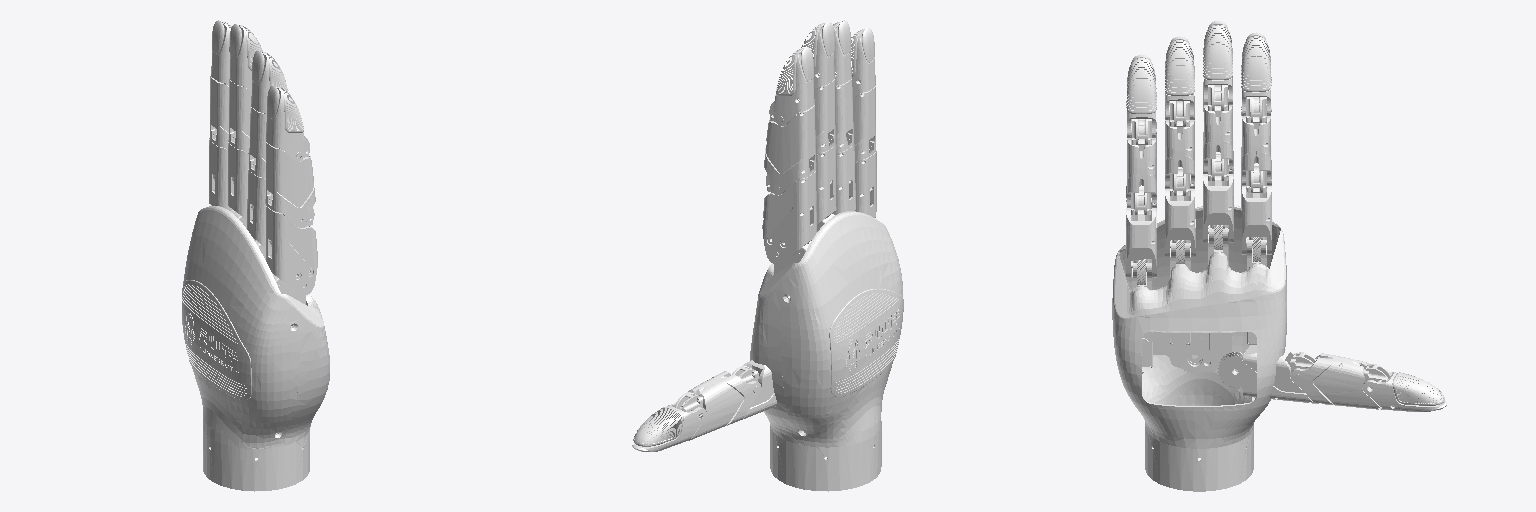
--- What the picture shows (computed from the rendered views, not written in the file) ---
Views: 3 orthographic renders of the robot side by side, from view 1: azimuth 30°, elevation 25°; view 2: azimuth 150°, elevation 25°; view 3: azimuth 270°, elevation 25°.
Robot: linkerhand_t24_1_right — 27 links, 26 joints (21 revolute, 5 fixed); root link base_link; default pose: all joints at 0.
Visible links, largest first — view 1: base_link, little_link1, little_link2, little_link3, middle_link3, middle_link2, ring_link3, middle_link1, index_link2, ring_link1, index_link1, index_link3 (+1 smaller); view 2: base_link, index_link1, index_link2, trumb_link3, index_link3, trumb_link4, little_link2, little_link3, middle_link3, middle_link2, middle_link1, ring_link1 (+4 smaller); view 3: base_link, trumb_link3, trumb_link2, little_link1, middle_link1, index_link1, ring_link1, trumb_link4, index_link2, middle_link2, little_link2, ring_link2 (+4 smaller).
Boxes of the visible links, <box> form: base_link: <box>182,206,329,491</box>; little_link1: <box>266,206,317,295</box>; little_link2: <box>265,137,315,227</box>; little_link3: <box>266,86,304,161</box>; middle_link3: <box>230,24,262,91</box>; middle_link2: <box>228,79,251,152</box>; ring_link3: <box>251,51,287,113</box>; middle_link1: <box>228,142,248,220</box>; index_link2: <box>209,76,228,149</box>; ring_link1: <box>247,169,265,248</box>; index_link1: <box>209,139,230,210</box>; index_link3: <box>211,20,231,85</box>; base_link: <box>750,211,903,491</box>; index_link1: <box>762,171,816,265</box>; index_link2: <box>764,102,815,194</box>; trumb_link3: <box>672,371,760,440</box>; index_link3: <box>774,47,814,125</box>; trumb_link4: <box>632,404,706,451</box>; little_link2: <box>853,86,875,162</box>; little_link3: <box>851,28,875,98</box>; middle_link3: <box>801,22,834,89</box>; middle_link2: <box>814,79,835,154</box>; middle_link1: <box>816,145,836,224</box>; ring_link1: <box>833,144,855,214</box>; base_link: <box>1112,205,1286,491</box>; trumb_link3: <box>1290,353,1391,409</box>; trumb_link2: <box>1217,345,1316,403</box>; little_link1: <box>1126,178,1156,284</box>; middle_link1: <box>1203,152,1233,249</box>; index_link1: <box>1241,163,1271,261</box>; ring_link1: <box>1165,167,1195,263</box>; trumb_link4: <box>1363,372,1447,411</box>; index_link2: <box>1241,97,1271,185</box>; middle_link2: <box>1203,85,1233,173</box>; little_link2: <box>1127,119,1156,207</box>; ring_link2: <box>1165,101,1194,188</box>.
Bounding box of the posed robot: 0.0804 × 0.1982 × 0.2891 m (x, y, z).
Meshes: 27 distinct files referenced, 25 mesh visuals loaded (25 binary STL); not drawn: 2 (reference not matched to a file when rendering).

The robot description file, URDF, robot "linkerhand_t24_1_right":
<?xml version="1.0" encoding="utf-8"?>
<!-- This URDF was automatically created by SolidWorks to URDF Exporter! Originally created by Stephen Brawner ([email redacted]) 
     Commit Version: 1.6.0-1-g15f4949  Build Version: 1.6.7594.29634
     For more information, please see http://wiki.ros.org/sw_urdf_exporter -->
<robot
  name="linkerhand_t24_1_right">
  <link
    name="base_link">
    <inertial>
      <origin
        xyz="0.00258739599199595 0.00890116360143403 0.139419533771663"
        rpy="0 0 0" />
      <mass
        value="0.269152839443886" />
      <inertia
        ixx="0.00177830804966392"
        ixy="-5.93935627663372E-05"
        ixz="2.69666193778981E-05"
        iyy="0.00147653758319417"
        iyz="0.000148619225191075"
        izz="0.000428398038832443" />
    </inertial>
    <visual>
      <origin
        xyz="0 0 0"
        rpy="0 0 0" />
      <geometry>
        <mesh
          filename="meshes/base_link.STL" />
      </geometry>
      <material
        name="">
        <color
          rgba="1 1 1 1" />
      </material>
    </visual>
    <collision>
      <origin
        xyz="0 0 0"
        rpy="0 0 0" />
      <geometry>
        <mesh
          filename="meshes/base_link.STL" />
      </geometry>
    </collision>
  </link>
  <link
    name="trumb_link0">
    <inertial>
      <origin
        xyz="-0.00191014368243104 0.00275969733370915 0.000842631887315579"
        rpy="0 0 0" />
      <mass
        value="0.00466562338059168" />
      <inertia
        ixx="2.18249754664417E-07"
        ixy="5.39712506031415E-09"
        ixz="-2.50095737897963E-08"
        iyy="1.88077142287716E-07"
        iyz="9.69090597953119E-09"
        izz="1.37244707692484E-07" />
    </inertial>
    <visual>
      <origin
        xyz="0 0 0"
        rpy="0 0 0" />
      <geometry>
        <mesh
          filename="meshes/trumb_link0.STL" />
      </geometry>
      <material
        name="">
        <color
          rgba="1 1 1 1" />
      </material>
    </visual>
    <collision>
      <origin
        xyz="0 0 0"
        rpy="0 0 0" />
      <geometry>
        <mesh
          filename="meshes/trumb_link0.STL" />
      </geometry>
    </collision>
  </link>
  <joint
    name="trumb_joint0"
    type="revolute">
    <origin
      xyz="-0.0064336 -0.0026725 0.068052"
      rpy="0.0026857 0 0" />
    <parent
      link="base_link" />
    <child
      link="trumb_link0" />
    <axis
      xyz="1 0 0" />
    <limit
      lower="-0.26"
      upper="0.61"
      effort="100"
      velocity="1" />
  </joint>
  <link
    name="trumb_link1">
    <inertial>
      <origin
        xyz="0.0107972965440593 -0.00780014885359367 -0.0106883405152574"
        rpy="0 0 0" />
      <mass
        value="0.0132849431009556" />
      <inertia
        ixx="5.73555307735334E-07"
        ixy="1.52007301908348E-08"
        ixz="-2.05107194782105E-07"
        iyy="1.24055475959824E-06"
        iyz="3.08915200839824E-08"
        izz="1.12041715669972E-06" />
    </inertial>
    <visual>
      <origin
        xyz="0 0 0"
        rpy="0 0 0" />
      <geometry>
        <mesh
          filename="meshes/trumb_link1.STL" />
      </geometry>
      <material
        name="">
        <color
          rgba="1 1 1 1" />
      </material>
    </visual>
    <collision>
      <origin
        xyz="0 0 0"
        rpy="0 0 0" />
      <geometry>
        <mesh
          filename="meshes/trumb_link1.STL" />
      </geometry>
    </collision>
  </link>
  <joint
    name="trumb_joint1"
    type="revolute">
    <origin
      xyz="0.006 0.00325 0.0036559"
      rpy="0 0 1.3075" />
    <parent
      link="trumb_link0" />
    <child
      link="trumb_link1" />
    <axis
      xyz="0 0 1" />
    <limit
      lower="-1.43"
      upper="0"
      effort="100"
      velocity="1" />
  </joint>
  <link
    name="trumb_link2">
    <inertial>
      <origin
        xyz="-0.0138667483899618 0.00254958129898298 0.0713379364969491"
        rpy="0 0 0" />
      <mass
        value="0.269152839443886" />
      <inertia
        ixx="0.00146793673117189"
        ixy="-2.43557236314711E-05"
        ixz="0.000147718033673625"
        iyy="0.00178773349062417"
        iyz="1.17600361514915E-05"
        izz="0.000427573449894473" />
    </inertial>
    <visual>
      <origin
        xyz="0 0 0"
        rpy="0 0 0" />
      <geometry>
        <mesh
          filename="meshes/trumb_link2.STL" />
      </geometry>
      <material
        name="">
        <color
          rgba="1 1 1 1" />
      </material>
    </visual>
    <collision>
      <origin
        xyz="0 0 0"
        rpy="0 0 0" />
      <geometry>
        <mesh
          filename="meshes/trumb_link2.STL" />
      </geometry>
    </collision>
  </link>
  <joint
    name="trumb_joint2"
    type="revolute">
    <origin
      xyz="0.022883 -0.00325 -0.0036559"
      rpy="0 -0.00011487 0" />
    <parent
      link="trumb_link1" />
    <child
      link="trumb_link2" />
    <axis
      xyz="0 -1 0" />
    <limit
      lower="0"
      upper="0.89"
      effort="100"
      velocity="1" />
  </joint>
  <link
    name="trumb_link3">
    <inertial>
      <origin
        xyz="-0.0531779257749569 -0.0674226477836501 -0.00327423905078019"
        rpy="0 0 0" />
      <mass
        value="0.269152839443886" />
      <inertia
        ixx="0.0014706711144407"
        ixy="-0.000137788652963271"
        ixz="-2.38819654247802E-05"
        iyy="0.000424785694139104"
        iyz="-8.43109267516766E-06"
        izz="0.00178778686311073" />
    </inertial>
    <visual>
      <origin
        xyz="0 0 0"
        rpy="0 0 0" />
      <geometry>
        <mesh
          filename="meshes/trumb_link3.STL" />
      </geometry>
      <material
        name="">
        <color
          rgba="1 1 1 1" />
      </material>
    </visual>
    <collision>
      <origin
        xyz="0 0 0"
        rpy="0 0 0" />
      <geometry>
        <mesh
          filename="meshes/trumb_link3.STL" />
      </geometry>
    </collision>
  </link>
  <joint
    name="trumb_joint3"
    type="revolute">
    <origin
      xyz="0.039954 0.006 0.0044366"
      rpy="-1.5682 -0.0095791 0" />
    <parent
      link="trumb_link2" />
    <child
      link="trumb_link3" />
    <axis
      xyz="0 0.0026132 1" />
    <limit
      lower="-1.57"
      upper="0"
      effort="100"
      velocity="1" />
  </joint>
  <link
    name="trumb_link4">
    <inertial>
      <origin
        xyz="-0.0959366778925846 -0.00345041867474483 0.0721354631429822"
        rpy="0 0 0" />
      <mass
        value="0.269152839443886" />
      <inertia
        ixx="0.00147586931101162"
        ixy="-2.39914328826128E-05"
        ixz="0.00011621070027556"
        iyy="0.00178773349062445"
        iyz="1.24864274973324E-05"
        izz="0.000419640870054461" />
    </inertial>
    <visual>
      <origin
        xyz="0 0 0"
        rpy="0 0 0" />
      <geometry>
        <mesh
          filename="meshes/trumb_link4.STL" />
      </geometry>
      <material
        name="">
        <color
          rgba="1 1 1 1" />
      </material>
    </visual>
    <collision>
      <origin
        xyz="0 0 0"
        rpy="0 0 0" />
      <geometry>
        <mesh
          filename="meshes/trumb_link4.STL" />
      </geometry>
    </collision>
  </link>
  <joint
    name="trumb_joint4"
    type="revolute">
    <origin
      xyz="0.044215 0.002743 0"
      rpy="1.5682 -5.3483E-05 -0.020468" />
    <parent
      link="trumb_link3" />
    <child
      link="trumb_link4" />
    <axis
      xyz="0 1 0" />
    <limit
      lower="-1.57"
      upper="0"
      effort="100"
      velocity="1" />
  </joint>
  <link
    name="trumb_link5">
    <inertial>
      <origin
        xyz="-0.000345767318641471 2.09452099747542E-07 -7.36364440549614E-05"
        rpy="0 0 0" />
      <mass
        value="1.25E-07" />
      <inertia
        ixx="5.20833333333333E-15"
        ixy="-9.17050802319426E-30"
        ixz="2.03216424011964E-29"
        iyy="5.20833333333329E-15"
        iyz="-2.42821247388343E-30"
        izz="5.20833333333336E-15" />
    </inertial>
    <visual>
      <origin
        xyz="0 0 0"
        rpy="0 0 0" />
      <geometry>
        <mesh
          filename="meshes/trumb_link5.STL" />
      </geometry>
      <material
        name="">
        <color
          rgba="1 1 1 1" />
      </material>
    </visual>
    <collision>
      <origin
        xyz="0 0 0"
        rpy="0 0 0" />
      <geometry>
        <mesh
          filename="meshes/trumb_link5.STL" />
      </geometry>
    </collision>
  </link>
  <joint
    name="trumb_joint5"
    type="fixed">
    <origin
      xyz="0.044396 -0.0059997 -0.010129"
      rpy="0 0 0" />
    <parent
      link="trumb_link4" />
    <child
      link="trumb_link5" />
    <axis
      xyz="0 0 0" />
  </joint>
  <link
    name="index_link0">
    <inertial>
      <origin
        xyz="-0.0116738400150615 -0.0249846423618668 0.00541127703895714"
        rpy="0 0 0" />
      <mass
        value="0.269152839443886" />
      <inertia
        ixx="0.0017783079720147"
        ixy="-5.93211342635092E-05"
        ixz="2.71279767148864E-05"
        iyy="0.00147732829997939"
        iyz="0.000145802064392195"
        izz="0.000427607399696438" />
    </inertial>
    <visual>
      <origin
        xyz="0 0 0"
        rpy="0 0 0" />
      <geometry>
        <mesh
          filename="meshes/index_link0.STL" />
      </geometry>
      <material
        name="">
        <color
          rgba="1 1 1 1" />
      </material>
    </visual>
    <collision>
      <origin
        xyz="0 0 0"
        rpy="0 0 0" />
      <geometry>
        <mesh
          filename="meshes/index_link0.STL" />
      </geometry>
    </collision>
  </link>
  <joint
    name="index_joint0"
    type="revolute">
    <origin
      xyz="0.014261 0.0339 0.13408"
      rpy="0.0026857 0 0" />
    <parent
      link="base_link" />
    <child
      link="index_link0" />
    <axis
      xyz="1 0 0" />
    <limit
      lower="-0.18"
      upper="0"
      effort="100"
      velocity="1" />
  </joint>
  <link
    name="index_link1">
    <inertial>
      <origin
        xyz="-0.00540393374272892 -0.0274846423619768 -0.0117160692076493"
        rpy="0 0 0" />
      <mass
        value="0.269152839443886" />
      <inertia
        ixx="0.00177766272537291"
        ixy="-6.07179790083106E-05"
        ixz="4.00879755757671E-05"
        iyy="0.00147732829997939"
        iyz="0.000145225913584595"
        izz="0.000428252646338224" />
    </inertial>
    <visual>
      <origin
        xyz="0 0 0"
        rpy="0 0 0" />
      <geometry>
        <mesh
          filename="meshes/index_link1.STL" />
      </geometry>
      <material
        name="">
        <color
          rgba="1 1 1 1" />
      </material>
    </visual>
    <collision>
      <origin
        xyz="0 0 0"
        rpy="0 0 0" />
      <geometry>
        <mesh
          filename="meshes/index_link1.STL" />
      </geometry>
    </collision>
  </link>
  <joint
    name="index_joint1"
    type="revolute">
    <origin
      xyz="-0.0061577 0.0025 0.017075"
      rpy="0 0.0095993 0" />
    <parent
      link="index_link0" />
    <child
      link="index_link1" />
    <axis
      xyz="0 1 0" />
    <limit
      lower="0"
      upper="1.57"
      effort="100"
      velocity="1" />
  </joint>
  <link
    name="index_link2">
    <inertial>
      <origin
        xyz="-0.00484277615558324 -0.0309846423660203 -0.0537126175656924"
        rpy="0 0 0" />
      <mass
        value="0.269152839443886" />
      <inertia
        ixx="0.00177766272537291"
        ixy="-6.07179790083098E-05"
        ixz="4.00879755757657E-05"
        iyy="0.0014773282999794"
        iyz="0.000145225913584584"
        izz="0.000428252646338221" />
    </inertial>
    <visual>
      <origin
        xyz="0 0 0"
        rpy="0 0 0" />
      <geometry>
        <mesh
          filename="meshes/index_link2.STL" />
      </geometry>
      <material
        name="">
        <color
          rgba="1 1 1 1" />
      </material>
    </visual>
    <collision>
      <origin
        xyz="0 0 0"
        rpy="0 0 0" />
      <geometry>
        <mesh
          filename="meshes/index_link2.STL" />
      </geometry>
    </collision>
  </link>
  <joint
    name="index_joint2"
    type="revolute">
    <origin
      xyz="-0.00056116 0.0035 0.041997"
      rpy="0 0 0" />
    <parent
      link="index_link1" />
    <child
      link="index_link2" />
    <axis
      xyz="0 1 0" />
    <limit
      lower="0"
      upper="1.57"
      effort="100"
      velocity="1" />
  </joint>
  <link
    name="index_link3">
    <inertial>
      <origin
        xyz="0.000731836437005504 -0.0309846423707089 -0.0979473866863188"
        rpy="0 0 0" />
      <mass
        value="0.269152839443886" />
      <inertia
        ixx="0.00177421861342153"
        ixy="-6.48905123172789E-05"
        ixz="7.90107793802022E-05"
        iyy="0.00147732829997989"
        iyz="0.000143410112484766"
        izz="0.000431696758289107" />
    </inertial>
    <visual>
      <origin
        xyz="0 0 0"
        rpy="0 0 0" />
      <geometry>
        <mesh
          filename="meshes/index_link3.STL" />
      </geometry>
      <material
        name="">
        <color
          rgba="1 1 1 1" />
      </material>
    </visual>
    <collision>
      <origin
        xyz="0 0 0"
        rpy="0 0 0" />
      <geometry>
        <mesh
          filename="meshes/index_link3.STL" />
      </geometry>
    </collision>
  </link>
  <joint
    name="index_joint3"
    type="revolute">
    <origin
      xyz="-0.002743 0 0.044215"
      rpy="0 0.02891 0" />
    <parent
      link="index_link2" />
    <child
      link="index_link3" />
    <axis
      xyz="0 1 0" />
    <limit
      lower="0"
      upper="1.57"
      effort="100"
      velocity="1" />
  </joint>
  <link
    name="index_link4">
    <inertial>
      <origin
        xyz="-0.000349434973883823 -4.11141635459078E-07 5.35951185556272E-05"
        rpy="0 0 0" />
      <mass
        value="1.24999999999997E-07" />
      <inertia
        ixx="5.20833333333303E-15"
        ixy="1.36384265347506E-29"
        ixz="-3.14558285956878E-29"
        iyy="5.20833333333322E-15"
        iyz="-3.40964343130674E-29"
        izz="5.20833333333309E-15" />
    </inertial>
    <visual>
      <origin
        xyz="0 0 0"
        rpy="0 0 0" />
      <geometry>
        <mesh
          filename="meshes/index_link4.STL" />
      </geometry>
      <material
        name="">
        <color
          rgba="1 1 1 1" />
      </material>
    </visual>
    <collision>
      <origin
        xyz="0 0 0"
        rpy="0 0 0" />
      <geometry>
        <mesh
          filename="meshes/index_link4.STL" />
      </geometry>
    </collision>
  </link>
  <joint
    name="index_joint4"
    type="fixed">
    <origin
      xyz="-0.012677 -0.0059997 0.043737"
      rpy="0 0 0" />
    <parent
      link="index_link3" />
    <child
      link="index_link4" />
    <axis
      xyz="0 0 0" />
  </joint>
  <link
    name="middle_link0">
    <inertial>
      <origin
        xyz="-0.0109304819869269 -0.00221632614720707 -0.00220331857411777"
        rpy="0 0 0" />
      <mass
        value="0.269152839443886" />
      <inertia
        ixx="0.0017783079720147"
        ixy="-5.93211342635094E-05"
        ixz="2.71279767148867E-05"
        iyy="0.00147732829997939"
        iyz="0.000145802064392195"
        izz="0.000427607399696438" />
    </inertial>
    <visual>
      <origin
        xyz="0 0 0"
        rpy="0 0 0" />
      <geometry>
        <mesh
          filename="meshes/middle_link0.STL" />
      </geometry>
      <material
        name="">
        <color
          rgba="1 1 1 1" />
      </material>
    </visual>
    <collision>
      <origin
        xyz="0 0 0"
        rpy="0 0 0" />
      <geometry>
        <mesh
          filename="meshes/middle_link0.STL" />
      </geometry>
    </collision>
  </link>
  <joint
    name="middle_joint0"
    type="revolute">
    <origin
      xyz="0.013518 0.011112 0.14163"
      rpy="0.0026857 0 0" />
    <parent
      link="base_link" />
    <child
      link="middle_link0" />
    <axis
      xyz="1 0 0" />
    <limit
      lower="0"
      upper="0"
      effort="100"
      velocity="1" />
  </joint>
  <link
    name="middle_link1">
    <inertial>
      <origin
        xyz="-0.00533194001687153 -0.00488464236319619 -0.0192157236623227"
        rpy="0 0 0" />
      <mass
        value="0.269152839443886" />
      <inertia
        ixx="0.00177766272537291"
        ixy="-6.07179790074989E-05"
        ixz="4.00879755769901E-05"
        iyy="0.00147732829998527"
        iyz="0.00014522591356337"
        izz="0.000428252646332347" />
    </inertial>
    <visual>
      <origin
        xyz="0 0 0"
        rpy="0 0 0" />
      <geometry>
        <mesh
          filename="meshes/middle_link1.STL" />
      </geometry>
      <material
        name="">
        <color
          rgba="1 1 1 1" />
      </material>
    </visual>
    <collision>
      <origin
        xyz="0 0 0"
        rpy="0 0 0" />
      <geometry>
        <mesh
          filename="meshes/middle_link1.STL" />
      </geometry>
    </collision>
  </link>
  <joint
    name="middle_joint1"
    type="revolute">
    <origin
      xyz="-0.0054143 0.0026683 0.01696"
      rpy="0 0.0095993 0" />
    <parent
      link="middle_link0" />
    <child
      link="middle_link1" />
    <axis
      xyz="0 1 0" />
    <limit
      lower="0"
      upper="1.57"
      effort="100"
      velocity="1" />
  </joint>
  <link
    name="middle_link2">
    <inertial>
      <origin
        xyz="-0.00477201854191357 -0.00838464237202477 -0.0612121756676154"
        rpy="0 0 0" />
      <mass
        value="0.269152839443886" />
      <inertia
        ixx="0.00177766434388306"
        ixy="-6.07150463278508E-05"
        ixz="4.00607257482394E-05"
        iyy="0.00147732829998059"
        iyz="0.000145227139685569"
        izz="0.000428251027826884" />
    </inertial>
    <visual>
      <origin
        xyz="0 0 0"
        rpy="0 0 0" />
      <geometry>
        <mesh
          filename="meshes/middle_link2.STL" />
      </geometry>
      <material
        name="">
        <color
          rgba="1 1 1 1" />
      </material>
    </visual>
    <collision>
      <origin
        xyz="0 0 0"
        rpy="0 0 0" />
      <geometry>
        <mesh
          filename="meshes/middle_link2.STL" />
      </geometry>
    </collision>
  </link>
  <joint
    name="middle_joint2"
    type="revolute">
    <origin
      xyz="-0.00056116 0.0035 0.041997"
      rpy="0 -2.0194E-05 0" />
    <parent
      link="middle_link1" />
    <child
      link="middle_link2" />
    <axis
      xyz="0 1 0" />
    <limit
      lower="0"
      upper="1.57"
      effort="100"
      velocity="1" />
  </joint>
  <link
    name="middle_link3">
    <inertial>
      <origin
        xyz="-0.00202898234042185 -0.00838464237677725 -0.105427170323188"
        rpy="0 0 0" />
      <mass
        value="0.269152839443886" />
      <inertia
        ixx="0.00177766434388304"
        ixy="-6.07150463278799E-05"
        ixz="4.00607257485019E-05"
        iyy="0.00147732829998058"
        iyz="0.000145227139685572"
        izz="0.000428251027826904" />
    </inertial>
    <visual>
      <origin
        xyz="0 0 0"
        rpy="0 0 0" />
      <geometry>
        <mesh
          filename="meshes/middle_link3.STL" />
      </geometry>
      <material
        name="">
        <color
          rgba="1 1 1 1" />
      </material>
    </visual>
    <collision>
      <origin
        xyz="0 0 0"
        rpy="0 0 0" />
      <geometry>
        <mesh
          filename="meshes/middle_link3.STL" />
      </geometry>
    </collision>
  </link>
  <joint
    name="middle_joint3"
    type="revolute">
    <origin
      xyz="-0.002743 0 0.044215"
      rpy="0 0 0" />
    <parent
      link="middle_link2" />
    <child
      link="middle_link3" />
    <axis
      xyz="0 1 0" />
    <limit
      lower="0"
      upper="1.57"
      effort="100"
      velocity="1" />
  </joint>
  <link
    name="middle_link4">
    <inertial>
      <origin
        xyz="-0.000349704869523938 -7.4578572797912E-07 5.33973445394076E-05"
        rpy="0 0 0" />
      <mass
        value="1.25E-07" />
      <inertia
        ixx="5.20833333333332E-15"
        ixy="3.87023168072014E-29"
        ixz="5.53743377610218E-30"
        iyy="5.20833333333342E-15"
        iyz="1.21268865032447E-29"
        izz="5.20833333333335E-15" />
    </inertial>
    <visual>
      <origin
        xyz="0 0 0"
        rpy="0 0 0" />
      <geometry>
        <mesh
          filename="meshes/middle_link4.STL" />
      </geometry>
      <material
        name="">
        <color
          rgba="1 1 1 1" />
      </material>
    </visual>
    <collision>
      <origin
        xyz="0 0 0"
        rpy="0 0 0" />
      <geometry>
        <mesh
          filename="meshes/middle_link4.STL" />
      </geometry>
    </collision>
  </link>
  <joint
    name="middle_joint4"
    type="fixed">
    <origin
      xyz="-0.0126773959122548 -0.00599972219724709 0.0437367152831721"
      rpy="0 0 0" />
    <parent
      link="middle_link3" />
    <child
      link="middle_link4" />
    <axis
      xyz="0 0 0" />
  </joint>
  <link
    name="ring_link0">
    <inertial>
      <origin
        xyz="-0.0112077785389183 0.0202152553078928 0.0071599509520778"
        rpy="0 0 0" />
      <mass
        value="0.269152839443886" />
      <inertia
        ixx="0.00177830707271652"
        ixy="-5.93234165997825E-05"
        ixz="2.71290797017276E-05"
        iyy="0.00147732918866887"
        iyz="0.00014580189695368"
        izz="0.000427607410305141" />
    </inertial>
    <visual>
      <origin
        xyz="0 0 0"
        rpy="0 0 0" />
      <geometry>
        <mesh
          filename="meshes/ring_link0.STL" />
      </geometry>
      <material
        name="">
        <color
          rgba="1 1 1 1" />
      </material>
    </visual>
    <collision>
      <origin
        xyz="0 0 0"
        rpy="0 0 0" />
      <geometry>
        <mesh
          filename="meshes/ring_link0.STL" />
      </geometry>
    </collision>
  </link>
  <joint
    name="ring_joint0"
    type="revolute">
    <origin
      xyz="0.013795 -0.011295 0.13221"
      rpy="0.0026856 0 0" />
    <parent
      link="base_link" />
    <child
      link="ring_link0" />
    <axis
      xyz="1 0 0" />
    <limit
      lower="0"
      upper="0.18"
      effort="100"
      velocity="1" />
  </joint>
  <link
    name="ring_link1">
    <inertial>
      <origin
        xyz="-0.00501043638848299 0.0177152553079935 -0.0100619791966741"
        rpy="0 0 0" />
      <mass
        value="0.269152839443886" />
      <inertia
        ixx="0.00177566145718129"
        ixy="-6.34577267157826E-05"
        ixz="6.55928326435769E-05"
        iyy="0.00147732918866887"
        iyz="0.000144050608580546"
        izz="0.000430253025840368" />
    </inertial>
    <visual>
      <origin
        xyz="0 0 0"
        rpy="0 0 0" />
      <geometry>
        <mesh
          filename="meshes/ring_link1.STL" />
      </geometry>
      <material
        name="">
        <color
          rgba="1 1 1 1" />
      </material>
    </visual>
    <collision>
      <origin
        xyz="0 0 0"
        rpy="0 0 0" />
      <geometry>
        <mesh
          filename="meshes/ring_link1.STL" />
      </geometry>
    </collision>
  </link>
  <joint
    name="ring_joint1"
    type="revolute">
    <origin
      xyz="-0.0059124 0.0025 0.017075"
      rpy="0 0.028525 0" />
    <parent
      link="ring_link0" />
    <child
      link="ring_link1" />
    <axis
      xyz="0 1 0" />
    <limit
      lower="0"
      upper="1.57"
      effort="100"
      velocity="1" />
  </joint>
  <link
    name="ring_link2">
    <inertial>
      <origin
        xyz="-0.00445033006575546 0.0142152552987778 -0.0520584376961807"
        rpy="0 0 0" />
      <mass
        value="0.269152839443886" />
      <inertia
        ixx="0.00177566410577584"
        ixy="-6.34548177690244E-05"
        ixz="6.55656636040719E-05"
        iyy="0.00147732918867022"
        iyz="0.000144051890007602"
        izz="0.00043025037724447" />
    </inertial>
    <visual>
      <origin
        xyz="0 0 0"
        rpy="0 0 0" />
      <geometry>
        <mesh
          filename="meshes/ring_link2.STL" />
      </geometry>
      <material
        name="">
        <color
          rgba="1 1 1 1" />
      </material>
    </visual>
    <collision>
      <origin
        xyz="0 0 0"
        rpy="0 0 0" />
      <geometry>
        <mesh
          filename="meshes/ring_link2.STL" />
      </geometry>
    </collision>
  </link>
  <joint
    name="ring_joint2"
    type="revolute">
    <origin
      xyz="-0.00056116 0.0035 0.041997"
      rpy="0 -2.0194E-05 0" />
    <parent
      link="ring_link1" />
    <child
      link="ring_link2" />
    <axis
      xyz="0 1 0" />
    <limit
      lower="0"
      upper="1.57"
      effort="100"
      velocity="1" />
  </joint>
  <link
    name="ring_link3">
    <inertial>
      <origin
        xyz="-0.000744056113606869 0.0142152552972555 -0.0962856947299341"
        rpy="0 0 0" />
      <mass
        value="0.269152839443886" />
      <inertia
        ixx="0.0017742176306046"
        ixy="-6.48927865170148E-05"
        ixz="7.9011844091808E-05"
        iyy="0.0014773291886702"
        iyz="0.000143409857300473"
        izz="0.000431696852415732" />
    </inertial>
    <visual>
      <origin
        xyz="0 0 0"
        rpy="0 0 0" />
      <geometry>
        <mesh
          filename="meshes/ring_link3.STL" />
      </geometry>
      <material
        name="">
        <color
          rgba="1 1 1 1" />
      </material>
    </visual>
    <collision>
      <origin
        xyz="0 0 0"
        rpy="0 0 0" />
      <geometry>
        <mesh
          filename="meshes/ring_link3.STL" />
      </geometry>
    </collision>
  </link>
  <joint
    name="ring_joint3"
    type="revolute">
    <origin
      xyz="-0.002743 0 0.044215"
      rpy="0 0.010005 0" />
    <parent
      link="ring_link2" />
    <child
      link="ring_link3" />
    <axis
      xyz="0 1 0" />
    <limit
      lower="0"
      upper="1.57"
      effort="100"
      velocity="1" />
  </joint>
  <link
    name="ring_link4">
    <inertial>
      <origin
        xyz="-0.000349704869524039 -7.45785706329771E-07 5.33973445393521E-05"
        rpy="0 0 0" />
      <mass
        value="1.24999999999997E-07" />
      <inertia
        ixx="5.20833333333312E-15"
        ixy="-1.56062827940593E-29"
        ixz="6.55370848915644E-29"
        iyy="5.20833333333329E-15"
        iyz="-5.78853771655365E-29"
        izz="5.20833333333316E-15" />
    </inertial>
    <visual>
      <origin
        xyz="0 0 0"
        rpy="0 0 0" />
      <geometry>
        <mesh
          filename="meshes/ring_link4.STL" />
      </geometry>
      <material
        name="">
        <color
          rgba="1 1 1 1" />
      </material>
    </visual>
    <collision>
      <origin
        xyz="0 0 0"
        rpy="0 0 0" />
      <geometry>
        <mesh
          filename="meshes/ring_link4.STL" />
      </geometry>
    </collision>
  </link>
  <joint
    name="ring_joint4"
    type="fixed">
    <origin
      xyz="-0.0126773959122548 -0.0059997221972472 0.0437367152831721"
      rpy="0 0 0" />
    <parent
      link="ring_link3" />
    <child
      link="ring_link4" />
    <axis
      xyz="0 0 0" />
  </joint>
  <link
    name="little_link0">
    <inertial>
      <origin
        xyz="-0.0107436441658412 0.0428153673335656 0.0202102525407014"
        rpy="0 0 0" />
      <mass
        value="0.269152839443886" />
      <inertia
        ixx="0.00177870430091372"
        ixy="-5.79188233097981E-05"
        ixz="1.41579791394582E-05"
        iyy="0.00147732829997939"
        iyz="0.00014636478011374"
        izz="0.000427211070797417" />
    </inertial>
    <visual>
      <origin
        xyz="0 0 0"
        rpy="0 0 0" />
      <geometry>
        <mesh
          filename="meshes/little_link0.STL" />
      </geometry>
      <material
        name="">
        <color
          rgba="1 1 1 1" />
      </material>
    </visual>
    <collision>
      <origin
        xyz="0 0 0"
        rpy="0 0 0" />
      <geometry>
        <mesh
          filename="meshes/little_link0.STL" />
      </geometry>
    </collision>
  </link>
  <joint
    name="little_joint0"
    type="revolute">
    <origin
      xyz="0.013525 -0.03386 0.1192"
      rpy="0.0026858 -0.0095978 -2.5781E-05" />
    <parent
      link="base_link" />
    <child
      link="little_link0" />
    <axis
      xyz="1 0 0" />
    <limit
      lower="0"
      upper="0.18"
      effort="100"
      velocity="1" />
  </joint>
  <link
    name="little_link1">
    <inertial>
      <origin
        xyz="-0.00535748950691302 0.0407415104772609 0.00325808418821283"
        rpy="0 0 0" />
      <mass
        value="0.269152839443886" />
      <inertia
        ixx="0.00177830797201457"
        ixy="-5.93211342638309E-05"
        ixz="2.71279767150518E-05"
        iyy="0.00147732829997952"
        iyz="0.000145802064392169"
        izz="0.00042760739969644" />
    </inertial>
    <visual>
      <origin
        xyz="0 0 0"
        rpy="0 0 0" />
      <geometry>
        <mesh
          filename="meshes/little_link1.STL" />
      </geometry>
      <material
        name="">
        <color
          rgba="1 1 1 1" />
      </material>
    </visual>
    <collision>
      <origin
        xyz="0 0 0"
        rpy="0 0 0" />
      <geometry>
        <mesh
          filename="meshes/little_link1.STL" />
      </geometry>
    </collision>
  </link>
  <joint
    name="little_joint1"
    type="revolute">
    <origin
      xyz="-0.0054177 0.0020739 0.016901"
      rpy="0 0.0095993 0" />
    <parent
      link="little_link0" />
    <child
      link="little_link1" />
    <axis
      xyz="0 1 0" />
    <limit
      lower="0"
      upper="1.57"
      effort="100"
      velocity="1" />
  </joint>
  <link
    name="little_link2">
    <inertial>
      <origin
        xyz="-0.00478993701934439 0.0368153673294238 -0.0389124529640016"
        rpy="0 0 0" />
      <mass
        value="0.269152839443886" />
      <inertia
        ixx="0.00177830797201457"
        ixy="-5.93211342638289E-05"
        ixz="2.71279767150392E-05"
        iyy="0.00147732829997952"
        iyz="0.000145802064392158"
        izz="0.000427607399696436" />
    </inertial>
    <visual>
      <origin
        xyz="0 0 0"
        rpy="0 0 0" />
      <geometry>
        <mesh
          filename="meshes/little_link2.STL" />
      </geometry>
      <material
        name="">
        <color
          rgba="1 1 1 1" />
      </material>
    </visual>
    <collision>
      <origin
        xyz="0 0 0"
        rpy="0 0 0" />
      <geometry>
        <mesh
          filename="meshes/little_link2.STL" />
      </geometry>
    </collision>
  </link>
  <joint
    name="little_joint2"
    type="revolute">
    <origin
      xyz="-0.00056755 0.0039261 0.042171"
      rpy="0 0 0" />
    <parent
      link="little_link1" />
    <child
      link="little_link2" />
    <axis
      xyz="0 1 0" />
    <limit
      lower="0"
      upper="1.57"
      effort="100"
      velocity="1" />
  </joint>
  <link
    name="little_link3">
    <inertial>
      <origin
        xyz="0.000784355295522267 0.0382613536337701 -0.0825192173202409"
        rpy="0 0 0" />
      <mass
        value="0.269152839443886" />
      <inertia
        ixx="0.00177561171305537"
        ixy="-6.46550062862099E-05"
        ixz="6.49912386916088E-05"
        iyy="0.00147198294155489"
        iyz="0.000162208979298413"
        izz="0.000435649017080279" />
    </inertial>
    <visual>
      <origin
        xyz="0 0 0"
        rpy="0 0 0" />
      <geometry>
        <mesh
          filename="meshes/little_link3.STL" />
      </geometry>
      <material
        name="">
        <color
          rgba="1 1 1 1" />
      </material>
    </visual>
    <collision>
      <origin
        xyz="0 0 0"
        rpy="0 0 0" />
      <geometry>
        <mesh
          filename="meshes/little_link3.STL" />
      </geometry>
    </collision>
  </link>
  <joint
    name="little_joint3"
    type="revolute">
    <origin
      xyz="-0.0031697 0 0.04425"
      rpy="-0.017453 0.02891 0" />
    <parent
      link="little_link2" />
    <child
      link="little_link3" />
    <axis
      xyz="0 0.99985 0.017452" />
    <limit
      lower="0"
      upper="1.57"
      effort="100"
      velocity="1" />
  </joint>
  <link
    name="little_link4">
    <inertial>
      <origin
        xyz="-0.000349704869519324 -1.67759814370672E-06 5.33761957042661E-05"
        rpy="0 0 0" />
      <mass
        value="1.24999999999999E-07" />
      <inertia
        ixx="5.20833333333328E-15"
        ixy="-7.32373379952134E-30"
        ixz="-6.97648863054832E-30"
        iyy="5.20833333333331E-15"
        iyz="6.25865241055767E-29"
        izz="5.20833333333331E-15" />
    </inertial>
    <visual>
      <origin
        xyz="0 0 0"
        rpy="0 0 0" />
      <geometry>
        <mesh
          filename="meshes/little_link4.STL" />
      </geometry>
      <material
        name="">
        <color
          rgba="1 1 1 1" />
      </material>
    </visual>
    <collision>
      <origin
        xyz="0 0 0"
        rpy="0 0 0" />
      <geometry>
        <mesh
          filename="meshes/little_link4.STL" />
      </geometry>
    </collision>
  </link>
  <joint
    name="little_joint4"
    type="fixed">
    <origin
      xyz="-0.0122498806169438 -0.00676173621814952 0.0436028417314645"
      rpy="0 0 0" />
    <parent
      link="little_link3" />
    <child
      link="little_link4" />
    <axis
      xyz="0 0 0" />
  </joint>
</robot>
